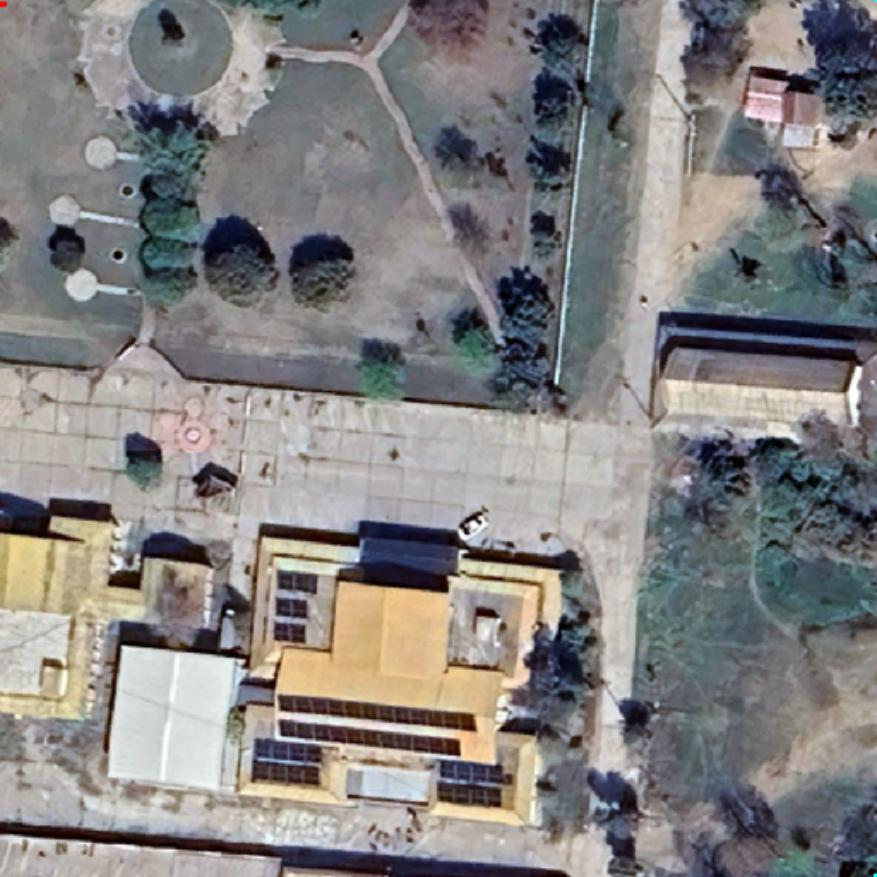Solarpanel: (272, 690, 481, 734), (272, 715, 466, 759), (430, 753, 511, 810), (246, 735, 328, 791), (434, 777, 507, 810), (273, 567, 321, 595), (268, 619, 310, 645), (272, 596, 312, 620)
